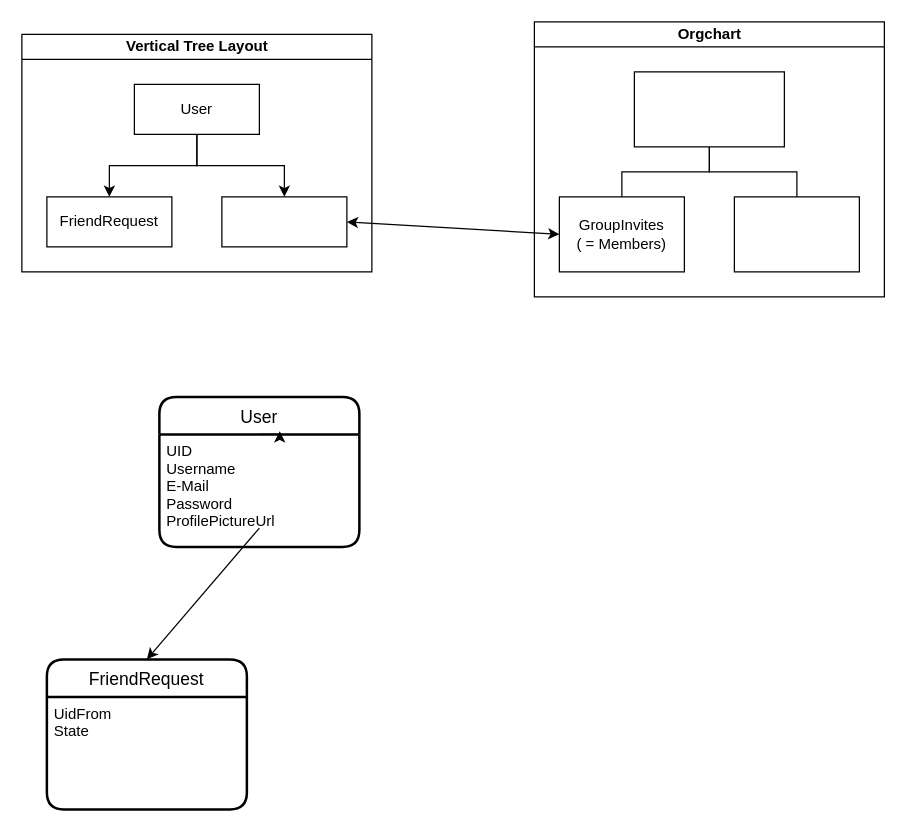
Image size: 906x833. Some labels were removed from this diagram. The centre of each missing label's shape, as x and y in pixels:
Division: (x=796, y=234)
GroupInvite: (x=284, y=221)
Groups: (x=708, y=109)
